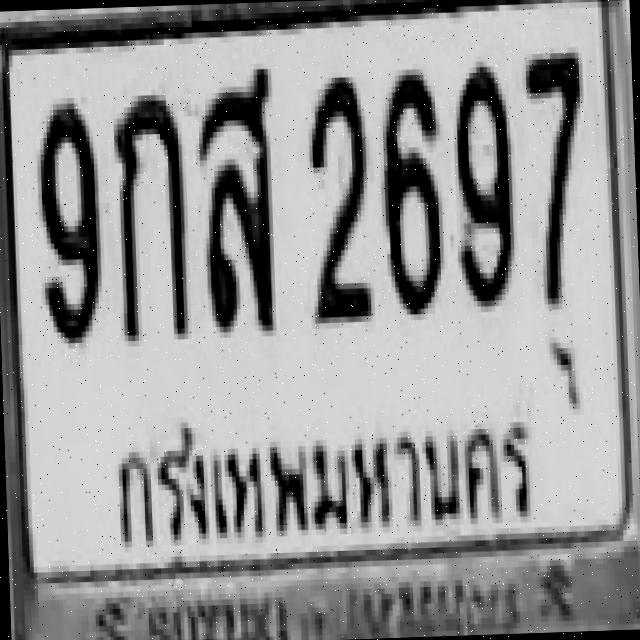10GorGai: (109, 88, 188, 341)
2: (302, 74, 371, 320)
49SorSuea: (192, 60, 280, 330)
6: (376, 68, 442, 316)
7: (521, 46, 586, 304)
9: (32, 94, 102, 341), (450, 57, 516, 304)
Bangkok: (103, 396, 548, 558)
